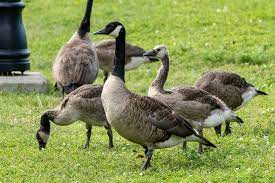goose: (93, 21, 220, 172)
